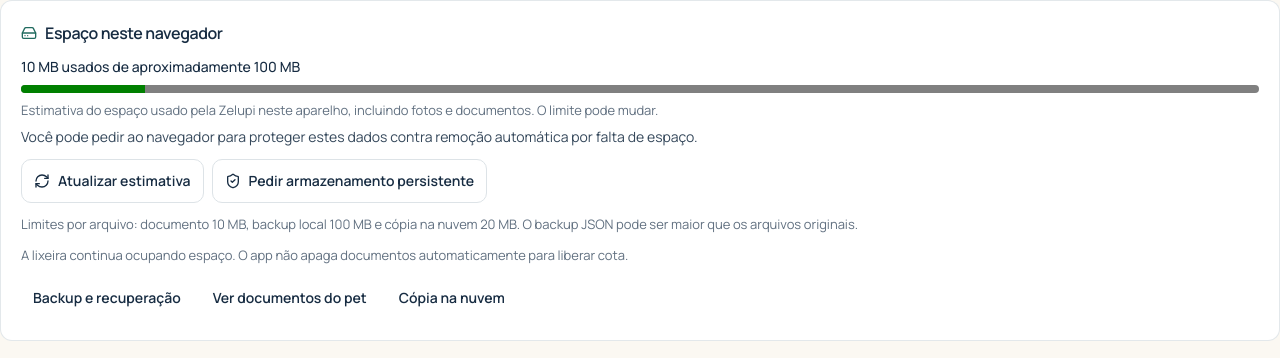
Test: espaço e proteção do armazenamento › mostra a estimativa e só pede persistência após ação explícita
Expected: the text "10 MB usados de aproximadamente 100 MB" is shown, 21,57 -> 300,76
Click the button "Pedir armazenamento persistente" at (349, 181), box 212,159 -> 487,203
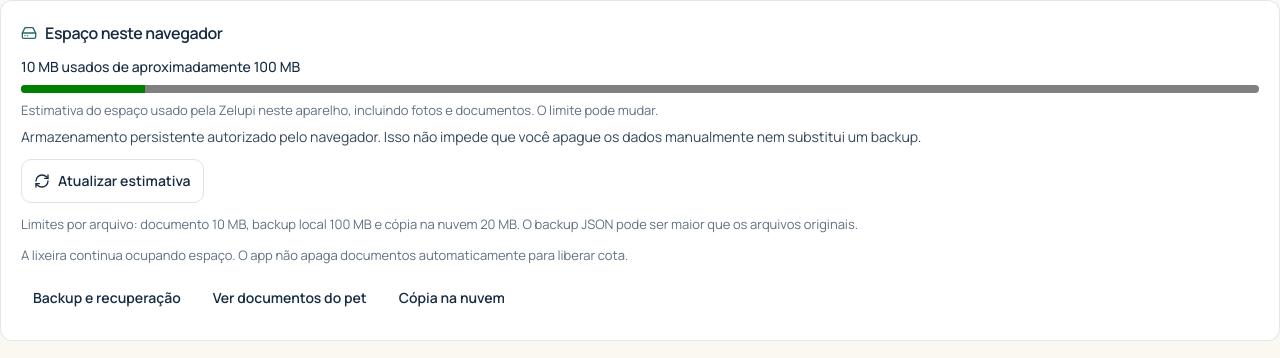
Expected: the button "Pedir armazenamento persistente" is gone
